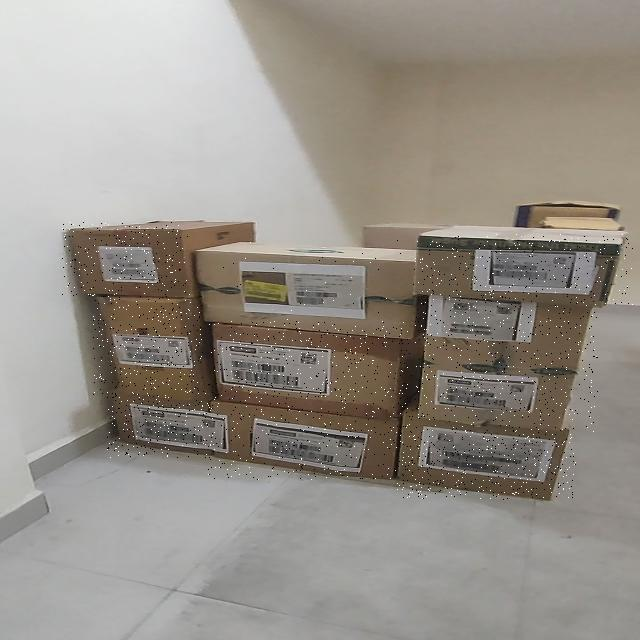BoxFace: (415, 292, 598, 432), (194, 239, 418, 338), (208, 321, 412, 419), (396, 410, 576, 500), (413, 234, 633, 306), (208, 398, 400, 480), (93, 294, 203, 398), (62, 222, 188, 298), (107, 390, 216, 458)
